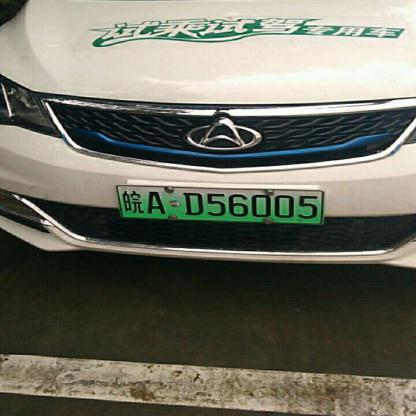lp: (117, 185, 321, 222)
